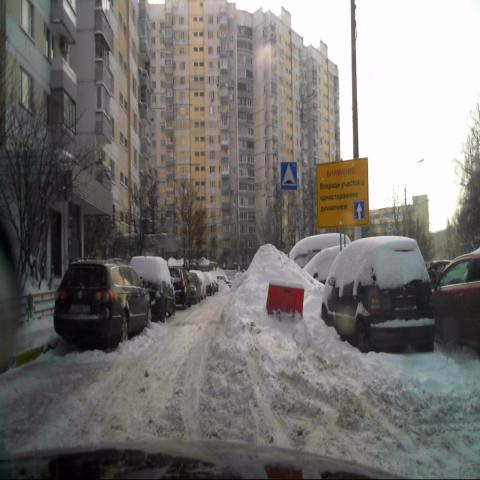5_20: (280, 160, 298, 192)
